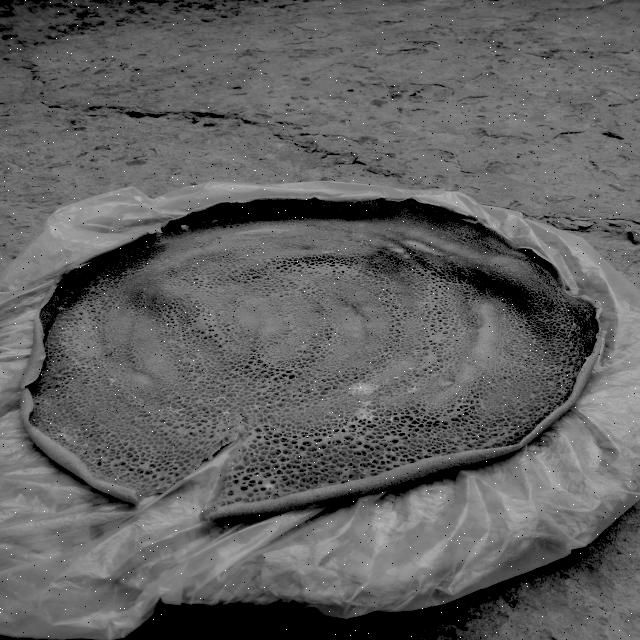injera_mold: (322, 400, 384, 448), (344, 380, 381, 398), (242, 450, 306, 459), (195, 393, 228, 410), (566, 319, 589, 339), (54, 428, 80, 441), (163, 403, 185, 417), (373, 350, 398, 361), (260, 480, 277, 491), (79, 377, 93, 386), (71, 357, 83, 367), (91, 459, 108, 466), (96, 426, 109, 435), (404, 386, 419, 393), (522, 354, 534, 362), (109, 378, 117, 388), (180, 325, 188, 334), (420, 301, 430, 308), (56, 305, 66, 310), (406, 367, 414, 372), (164, 329, 171, 334), (158, 359, 165, 364), (102, 359, 108, 364), (392, 376, 399, 380), (400, 208, 406, 212), (194, 236, 200, 240), (172, 384, 178, 388), (149, 319, 155, 322), (388, 228, 392, 231)
